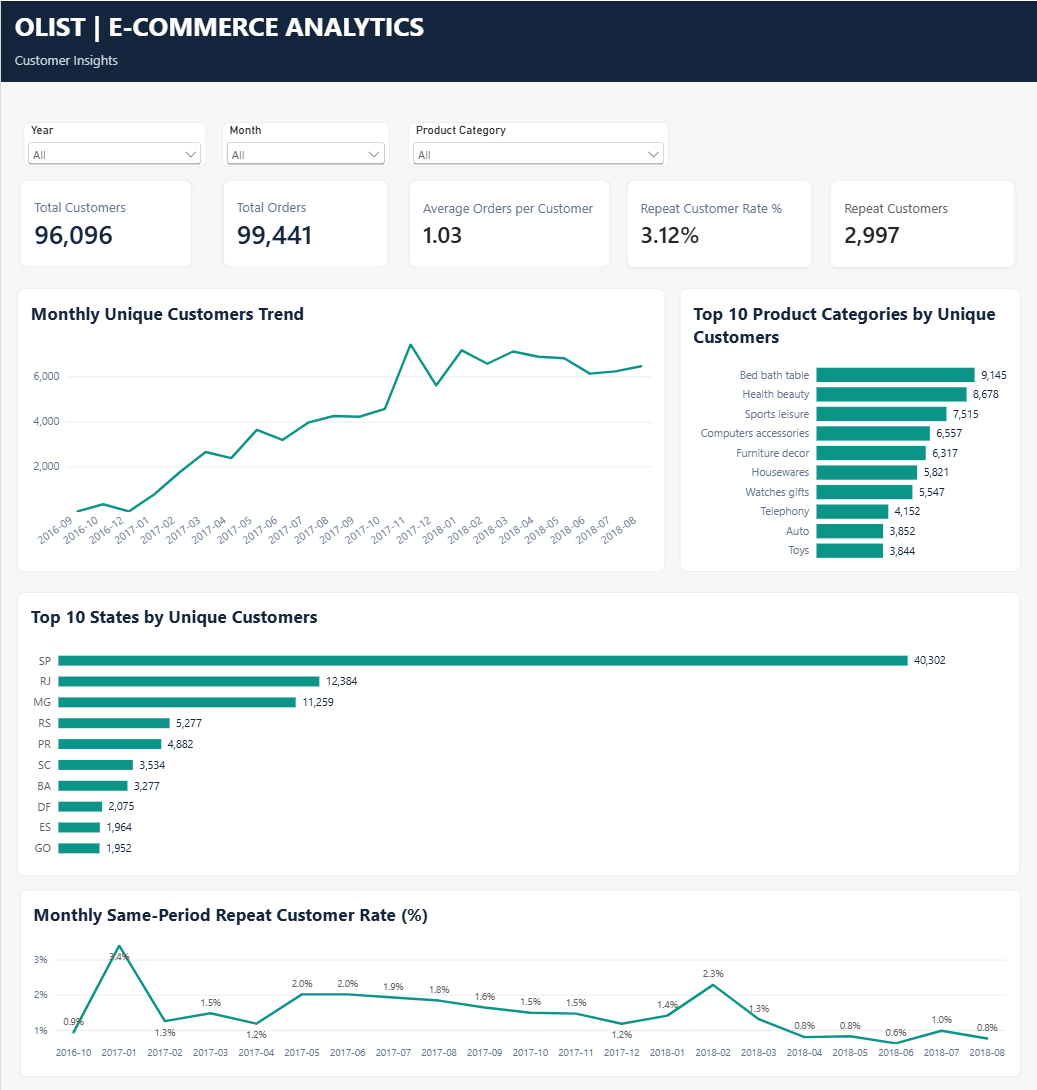

Layout of this report page (visuals, bound fields, positions):
{"tool":"powerbi","page":{"name":"Customer Insights","canvas":[1280,1350],"ordinal":2},"visuals":[{"type":"shape","box":[0,0,1919.8,100],"z":0},{"type":"cardVisual","fields":{"Data":["Customers.Total Unique Customers"]},"box":[23.1,220.7,214.5,109.6],"z":1000},{"type":"cardVisual","fields":{"Data":["orders.Total Orders"]},"box":[273.1,220.7,206.8,109.6],"z":2000},{"type":"cardVisual","fields":{"Data":["Customers.Average Orders per Customer"]},"box":[503.1,220.7,250,109.6],"z":3000},{"type":"cardVisual","fields":{"Data":["Customers.Repeat Customer Rate %"]},"box":[771.6,220.7,230,110],"z":4000},{"type":"cardVisual","fields":{"Data":["Customers.Repeat Customers"]},"box":[1022.5,220,230,110],"z":5000},{"type":"textbox","box":[17.3,9.9,524.7,51.9],"z":6000},{"type":"textbox","box":[17,61.7,299.4,32.4],"z":7000},{"type":"lineChart","title":"Monthly Unique Customers Trend","fields":{"Category":["DimDate.Year-Month"],"Y":["Customers.Total Unique Customers"]},"box":[20.1,354.9,800,350],"z":8000},{"type":"clusteredBarChart","title":"Top 10 Product Categories by Unique Customers","fields":{"Category":["Products.Category_Display"],"Y":["Customers.Total Unique Customers"]},"box":[838,354.9,421.1,349.8],"z":9000},{"type":"clusteredBarChart","title":"Top 10 States by Unique Customers","fields":{"Category":["Customers.customer_state"],"Y":["Customers.Total Unique Customers"]},"box":[20.6,730,1238.7,350],"z":10000},{"type":"slicer","fields":{"Values":["DimDate.Year"]},"box":[27.8,149.7,225.3,55.6],"z":11000},{"type":"slicer","fields":{"Values":["DimDate.Month Name"]},"box":[273.8,150,206.2,55],"z":12000},{"type":"slicer","fields":{"Values":["Products.Category_Display"]},"box":[502.5,150,321.2,55],"z":13000},{"type":"lineChart","title":"Monthly Same-Period Repeat Customer Rate (%)","fields":{"Category":["DimDate.Year-Month"],"Y":["Customers.Repeat Customer Rate %"]},"box":[23.1,1097.2,1236.1,231.5],"z":14000}]}

Visuals, with their boxes in screenshot pixels (x1, y1, x2, y2), scaled from the page's 1280x1350 canvas onto the 1037x1090 screenshot:
shape: locate(0, 0, 1036, 81)
cardVisual - Customers.Total Unique Customers: locate(19, 178, 192, 267)
cardVisual - orders.Total Orders: locate(221, 178, 389, 267)
cardVisual - Customers.Average Orders per Customer: locate(408, 178, 610, 267)
cardVisual - Customers.Repeat Customer Rate %: locate(625, 178, 811, 267)
cardVisual - Customers.Repeat Customers: locate(828, 178, 1015, 266)
textbox: locate(14, 8, 439, 50)
textbox: locate(14, 50, 256, 76)
"Monthly Unique Customers Trend" lineChart: locate(16, 287, 664, 569)
"Top 10 Product Categories by Unique Customers" clusteredBarChart: locate(679, 287, 1020, 569)
"Top 10 States by Unique Customers" clusteredBarChart: locate(17, 589, 1020, 872)
slicer - DimDate.Year: locate(23, 121, 205, 166)
slicer - DimDate.Month Name: locate(222, 121, 389, 166)
slicer - Products.Category_Display: locate(407, 121, 667, 166)
"Monthly Same-Period Repeat Customer Rate (%)" lineChart: locate(19, 886, 1020, 1073)
